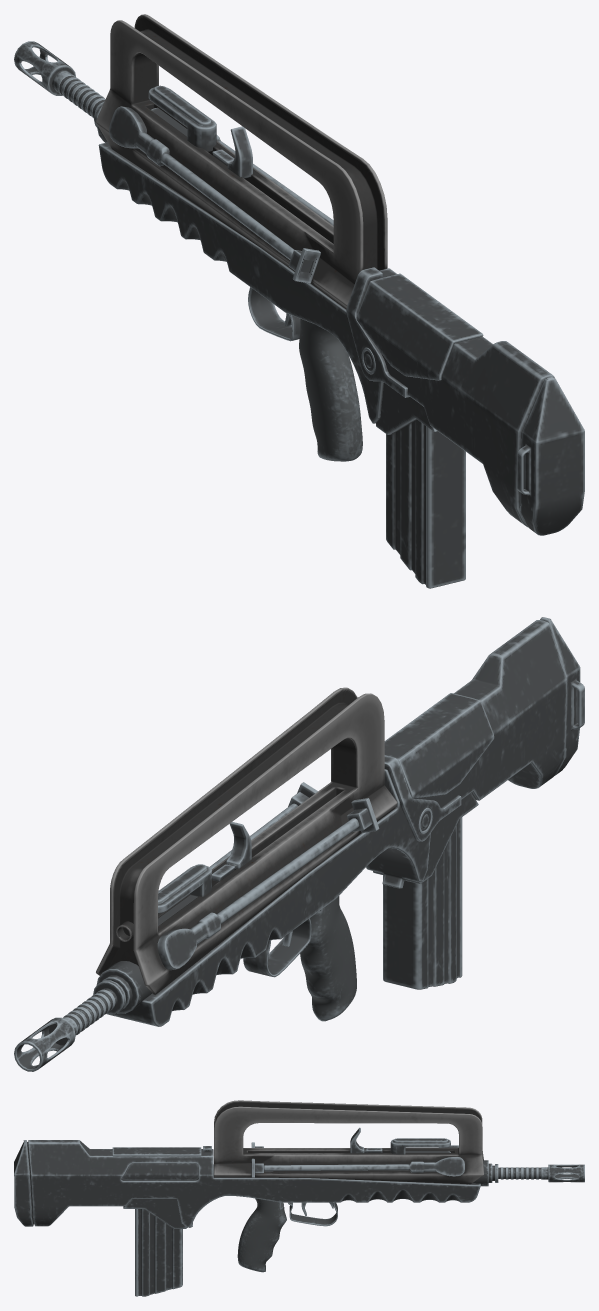
File: famas.obj
3 views of the same model, one above another, from view 1: azimuth 30°, elevation 25°; view 2: azimuth 150°, elevation 25°; view 3: azimuth 270°, elevation 25° (orthographic). The views are drawn at different scales.
Parts seen in each view (by area): view 1: Body, Magazine; view 2: Body, Magazine; view 3: Body, Magazine.
Boxes of the visible parts, x1=… form: Body: x1=14, y1=14, x2=584, y2=535; Magazine: x1=386, y1=419, x2=465, y2=588; Body: x1=14, y1=617, x2=584, y2=1071; Magazine: x1=383, y1=817, x2=462, y2=989; Body: x1=14, y1=1100, x2=584, y2=1272; Magazine: x1=135, y1=1209, x2=182, y2=1296.
Size of the model in its own units: 0.0717 by 0.2763 by 0.76.
Materials: 1 (1 with a texture image).
